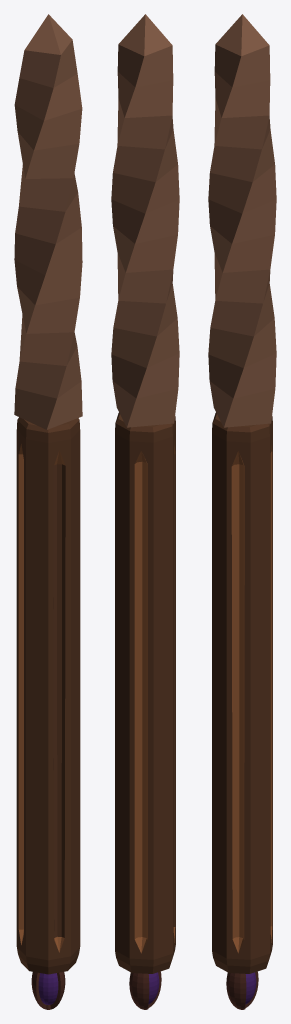
The model's file is Wand 557.glb.
The picture shows the model from 3 angles, left to right: view 1: azimuth 90°, elevation 25°; view 2: azimuth 150°, elevation 25°; view 3: azimuth 330°, elevation 25°; orthographic projection.
Visible parts, largest first — view 1: GeneratedWand; view 2: GeneratedWand; view 3: GeneratedWand.
Part boxes in pixels (x1,y1,x2,y2): GeneratedWand: [14, 14, 82, 1009]; GeneratedWand: [111, 14, 179, 1009]; GeneratedWand: [208, 14, 276, 1009].
Bounding box in the file's own units: 0.0311 × 0.5009 × 0.0311.
